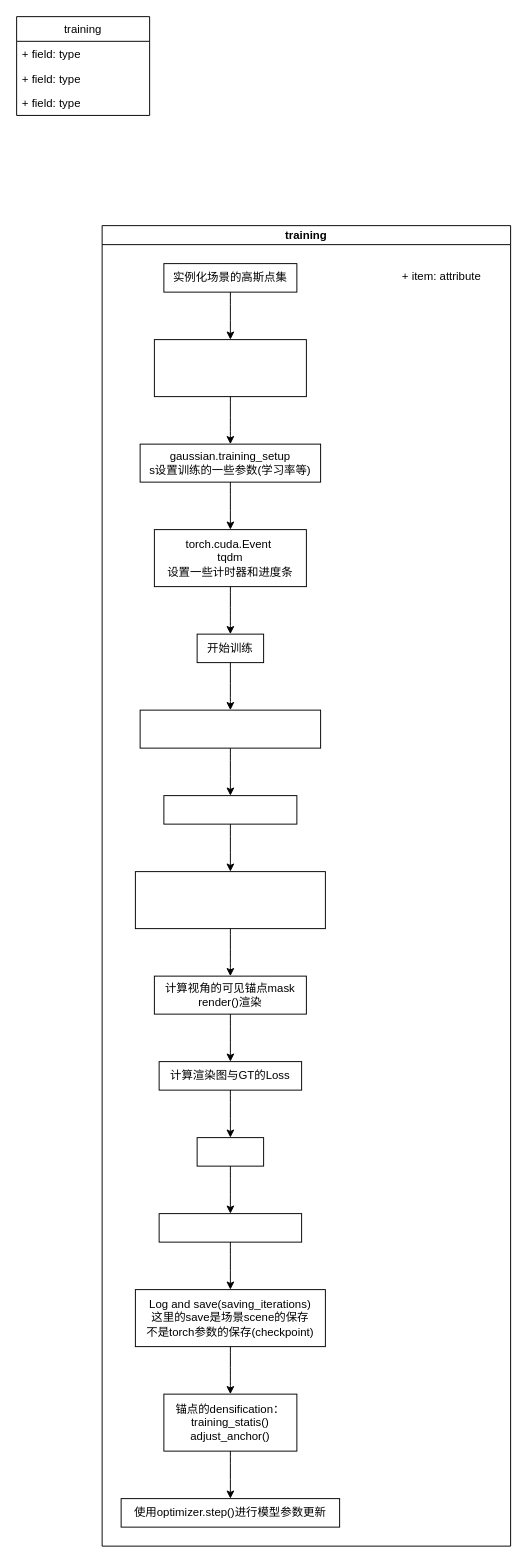
Image size: 527x1563. Some labels were removed from this diagram. The centre of each missing label's shape, as x and y in pixels:
"gaussian.update_learning_rate (训练过程中调整学习率)" goes at pixel 230 728.
"实例化场景 负责维护坐标系变换对其 （相机）" goes at pixel 229 368.
"更新tqdm的进度和显示" goes at pixel 230 1227.
"梯度计算" goes at pixel 230 1151.
"设置背景颜色(白或黑)" goes at pixel 230 809.
"随机选取一个视角 scene.getTrainCameras().copy() viewpoint_stack.pop(randint())" goes at pixel 229 900.
